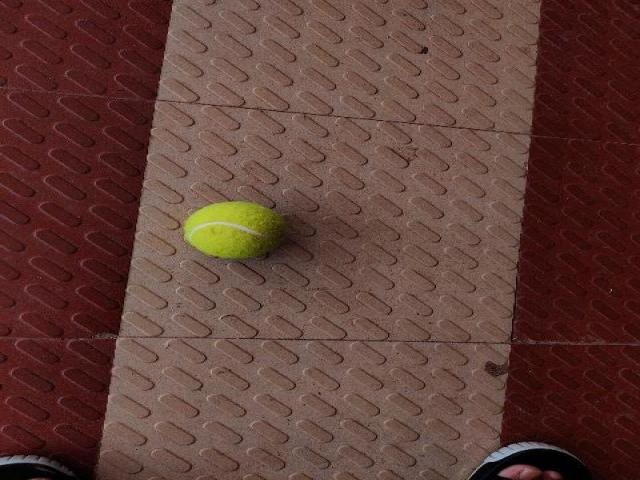tennis-ball: (183, 201, 286, 258)
